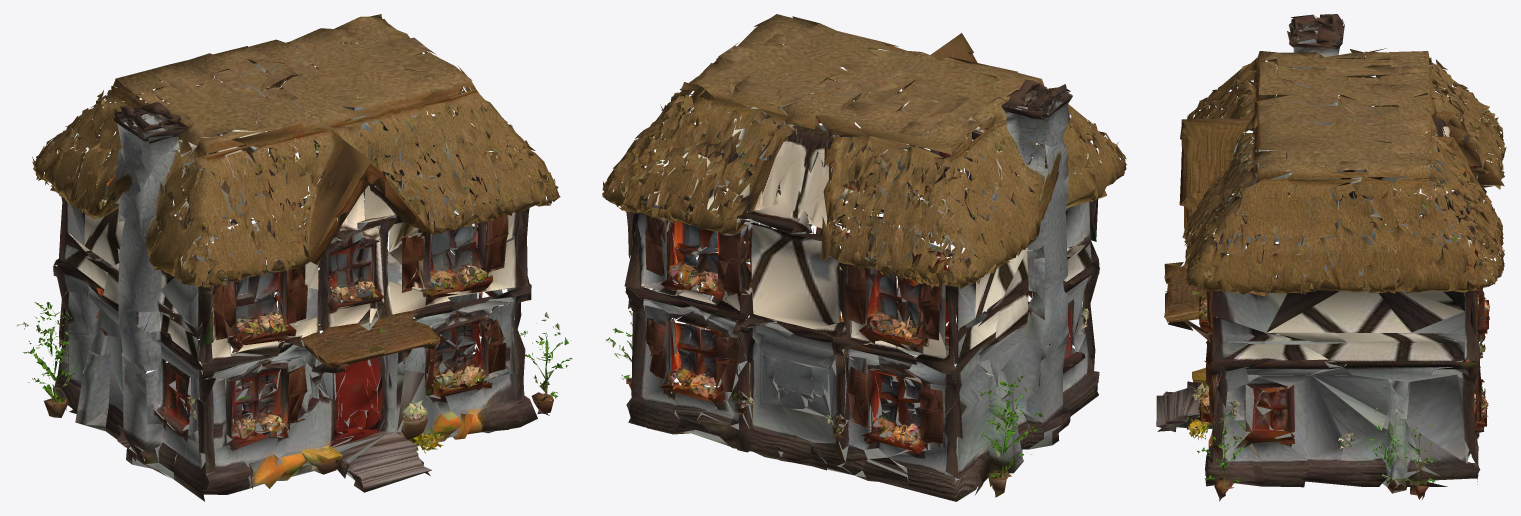
File: Rpg_house_town.glb
3 views of the same model, side by side, from view 1: azimuth 30°, elevation 25°; view 2: azimuth 150°, elevation 25°; view 3: azimuth 270°, elevation 25° (orthographic). The views are drawn at different scales.
Parts seen in each view (by area): view 1: Rpg_house; view 2: Rpg_house; view 3: Rpg_house.
Boxes of the visible parts, bbox=[...] form: Rpg_house: bbox=[16, 14, 572, 501]; Rpg_house: bbox=[602, 14, 1126, 501]; Rpg_house: bbox=[1156, 14, 1506, 501].
Bounding box in the file's own units: 1.88 × 1.47 × 1.43.
1 material, 1 textured.
